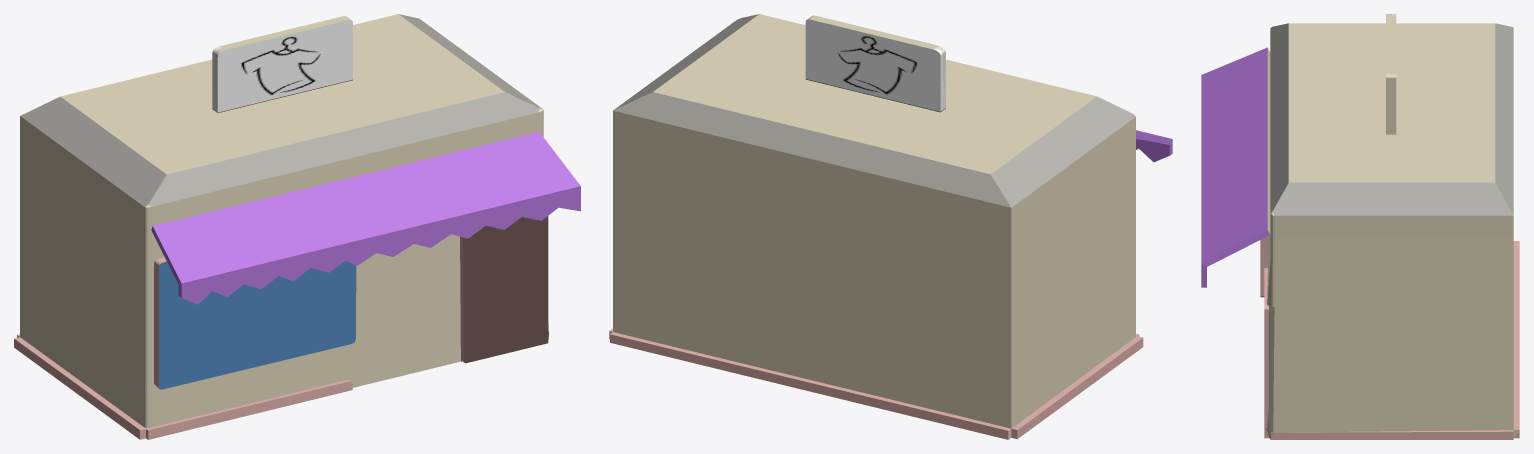
The model's file is ClothingShop 1.fbx.
The picture shows the model from 3 angles, left to right: view 1: azimuth 30°, elevation 25°; view 2: azimuth 150°, elevation 25°; view 3: azimuth 270°, elevation 25°; orthographic projection. The views are drawn at different scales.
Visible parts, largest first — view 1: Cube; view 2: Cube; view 3: Cube.
Part boxes in pixels (box(x1,y1,x2,y2)): Cube: box(14, 14, 580, 439); Cube: box(609, 14, 1172, 439); Cube: box(1201, 14, 1519, 439).
Size of the model in its own units: 483 by 350 by 336.
7 materials, 1 textured.
